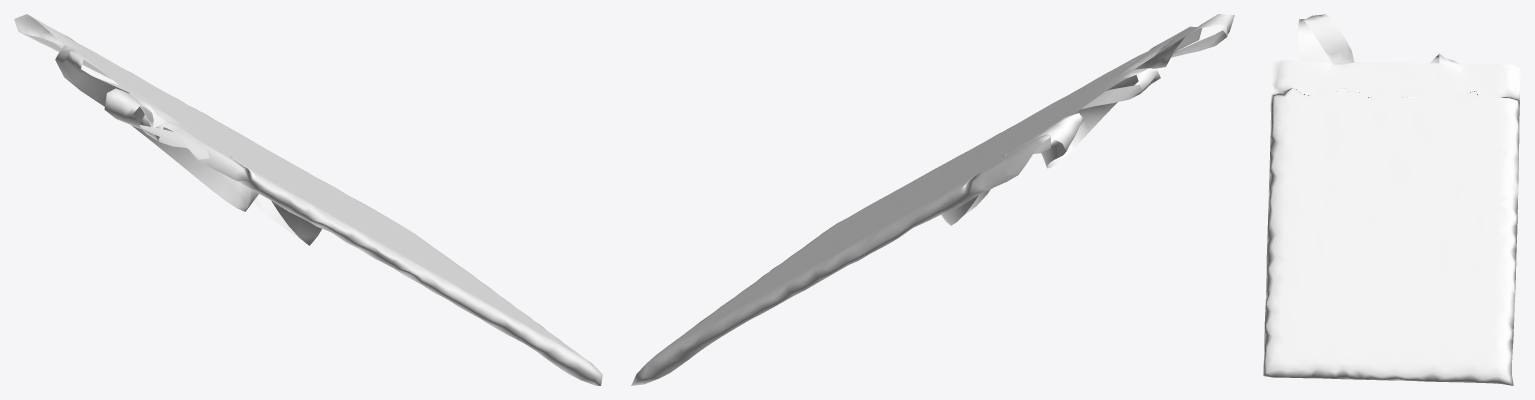
The model's file is sumochka.glb.
3 renders of one model, left to right at view 1: azimuth 30°, elevation 25°; view 2: azimuth 150°, elevation 25°; view 3: azimuth 270°, elevation 25°, orthographic. The views are drawn at different scales.
Parts seen in each view (by area): view 1: sumochka; view 2: sumochka; view 3: sumochka.
Boxes of the visible parts, left/top/right/bottom form: sumochka: left=14, top=14, right=602, bottom=385; sumochka: left=631, top=14, right=1234, bottom=385; sumochka: left=1263, top=14, right=1520, bottom=385.
Bounding box in the file's own units: 3.77 × 2.91 × 2.91.
Materials: 1 (1 with a texture image).
